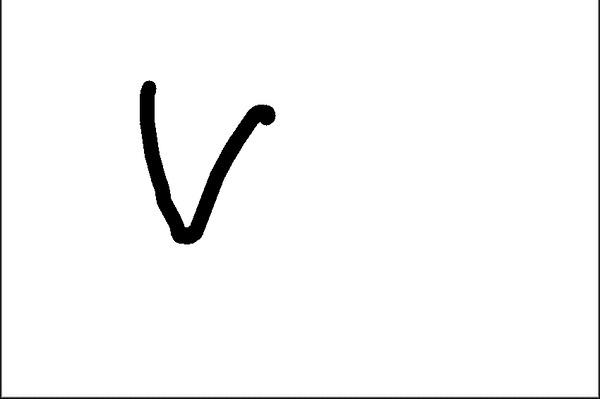V: (129, 76, 282, 247)
